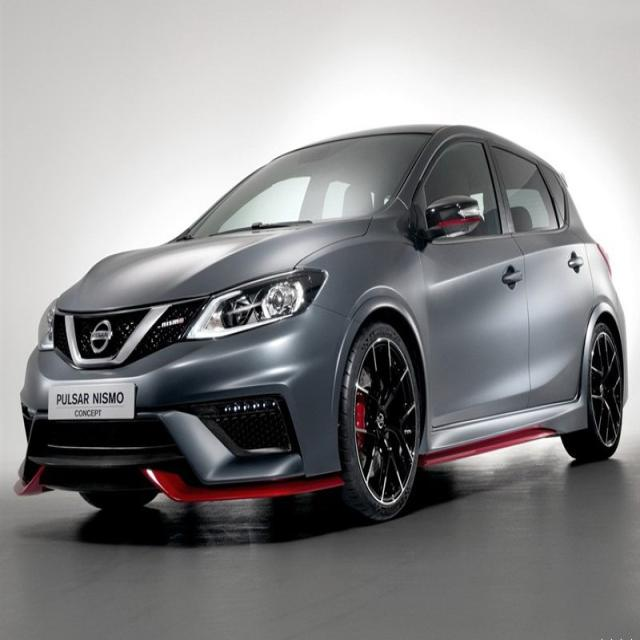door: (485, 138, 597, 419)
front_bumper: (12, 334, 349, 497)
front_glass: (182, 130, 431, 237)
front_left_side_door: (415, 129, 532, 440)
front_left_side_light: (183, 266, 327, 346)
front_left_side_mirror: (422, 194, 482, 244)
front_right_side_light: (34, 297, 64, 354)
wheel: (338, 320, 420, 520), (565, 320, 623, 462)
